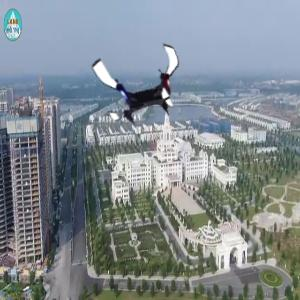drone: (96, 36, 191, 131)
